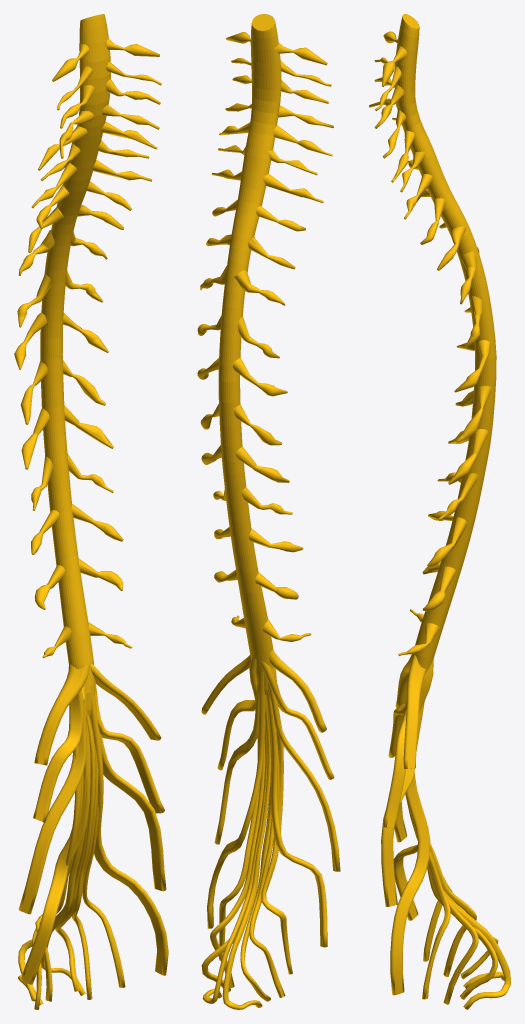
File: cord_2.glb
3 renders of one model, left to right at view 1: azimuth 30°, elevation 25°; view 2: azimuth 150°, elevation 25°; view 3: azimuth 270°, elevation 25°, orthographic. The views are drawn at different scales.
Parts seen in each view (by area): view 1: BezierCurve.002; view 2: BezierCurve.002; view 3: BezierCurve.002.
Boxes of the visible parts, x1,y1,x2,y2 form: BezierCurve.002: [14, 14, 168, 1009]; BezierCurve.002: [197, 14, 340, 1009]; BezierCurve.002: [369, 14, 510, 1009].
Size of the model in its own units: 73.88 by 496 by 64.86.
